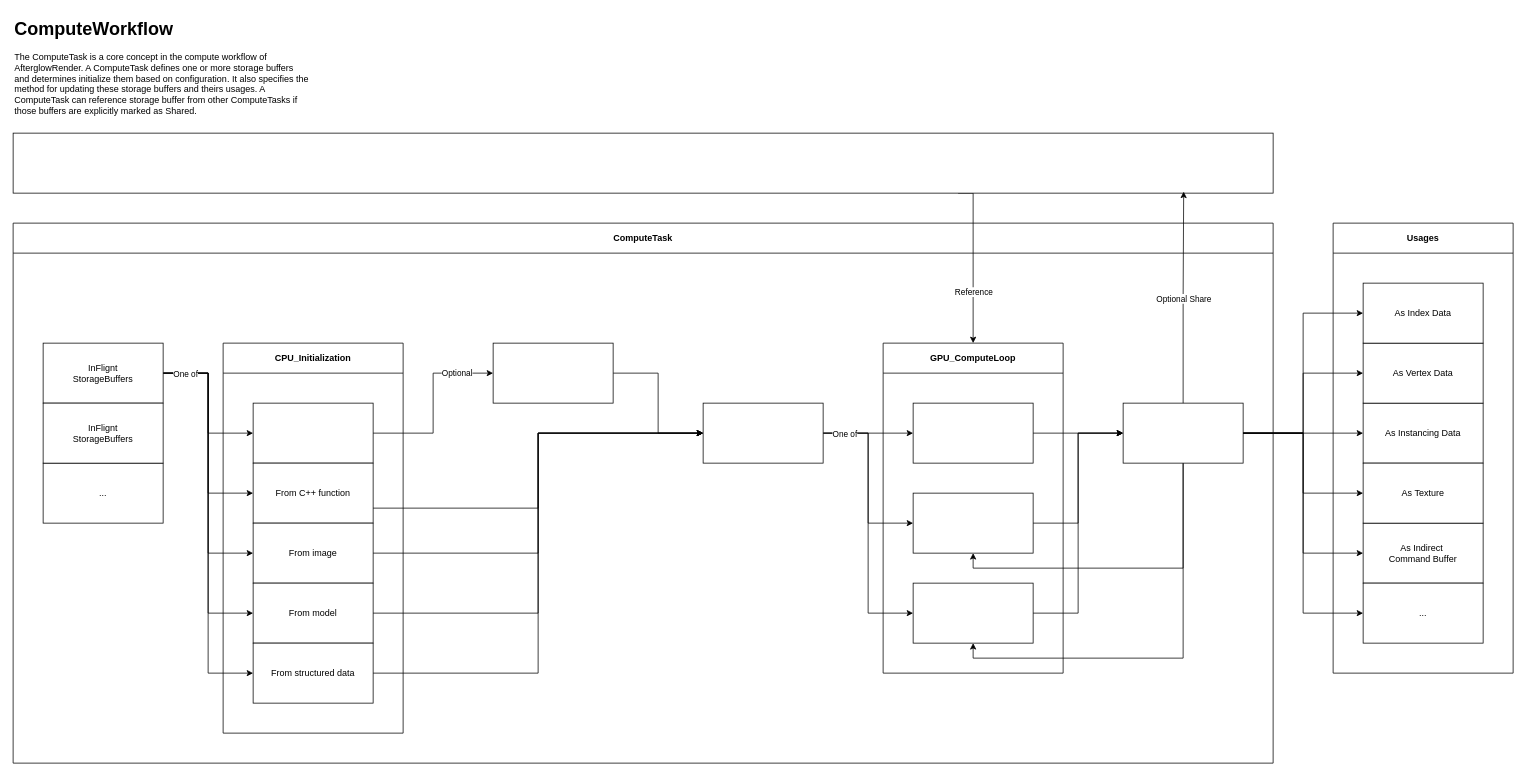
Some shapes in this 1526 by 776 pixel diagram are drawn without their labels. The centre of each missing label's shape, as x and y in pixels:
AllZero: the point at 312,432
ExecuteEveryFrame: the point at 972,522
ExecuteOnce: the point at 972,432
ExecuteWithFixedFrequency: the point at 972,612
GPU ComputeShaderInitializer: the point at 552,372
InitializedStorageBuffer: the point at 762,432
Shared Storage Buffer Pool: the point at 642,162
UpdatedStorageBuffer: the point at 1182,432
